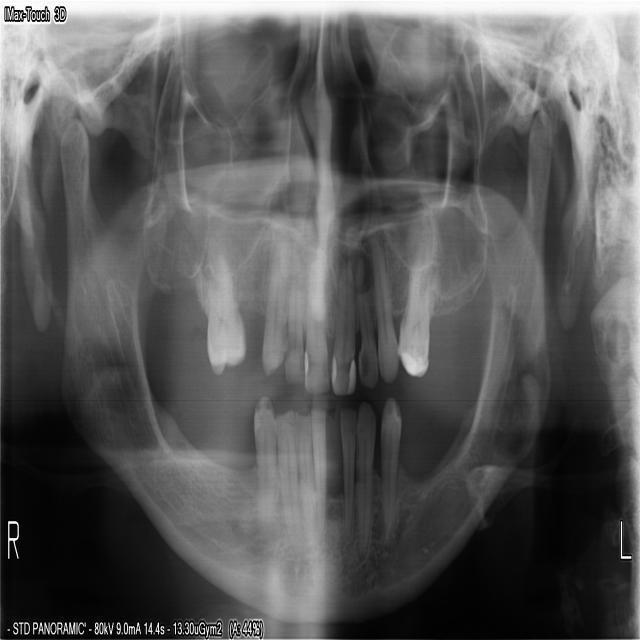LCD: (354, 397, 375, 556)
LCU: (369, 236, 398, 386)
LID: (337, 404, 356, 537)
LIU: (329, 240, 355, 397), (354, 254, 377, 389)
LMU: (398, 249, 439, 380)
LPMD: (379, 394, 402, 543)
RCD: (272, 405, 300, 549)
RCU: (258, 221, 289, 378)
RID: (292, 407, 315, 550), (308, 404, 326, 538)
RIU: (302, 238, 329, 397), (282, 232, 302, 386)
RMU: (204, 246, 245, 378)
RPMD: (251, 392, 276, 534)
